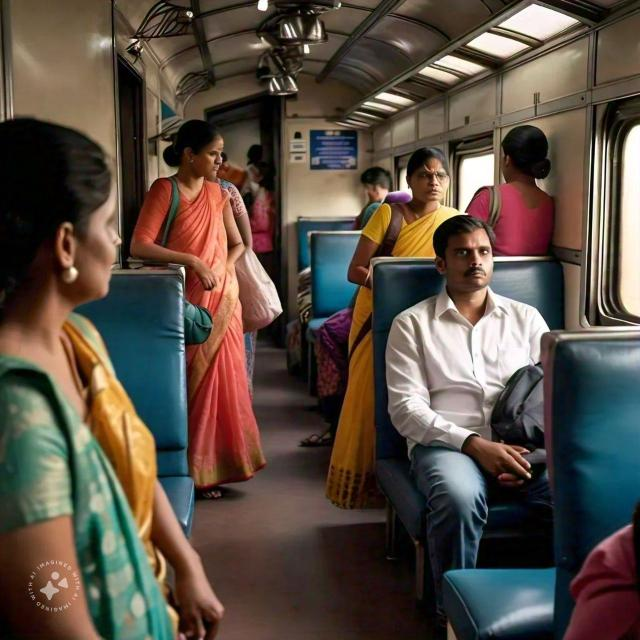Unauthorized_Person_in_Ladies: (41, 71, 594, 534)
